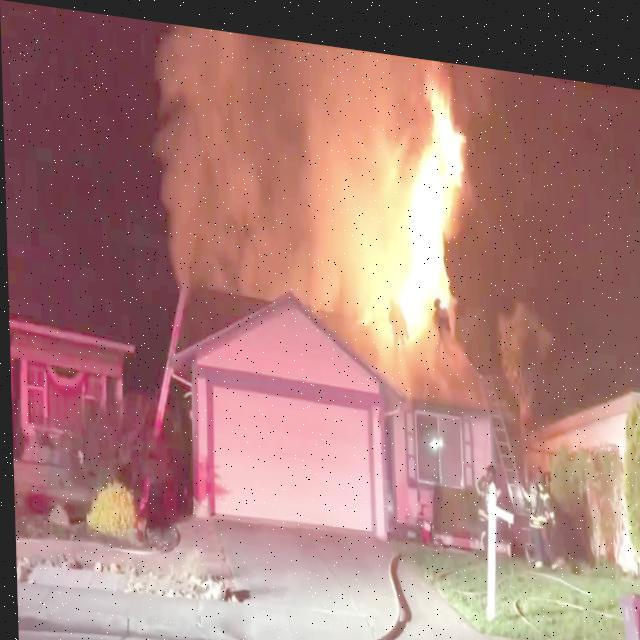Fire: (394, 72, 466, 318)
